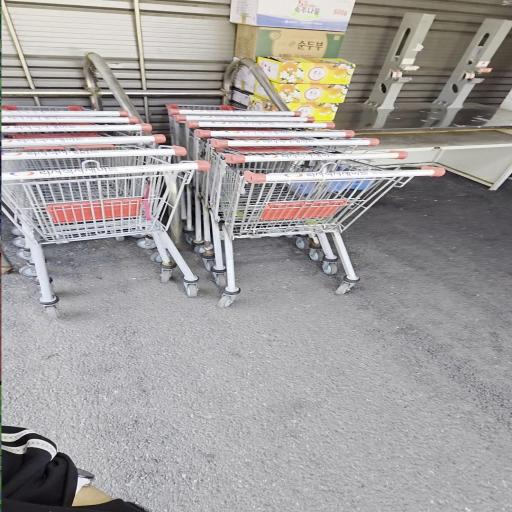combined_cart: (166, 105, 444, 304), (1, 103, 212, 318)
